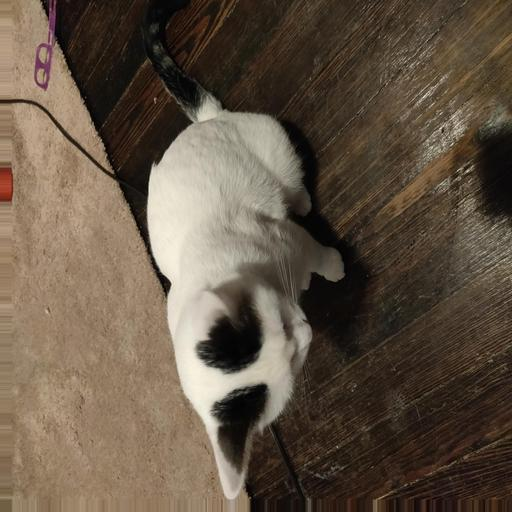cat: (104, 114, 436, 446)
